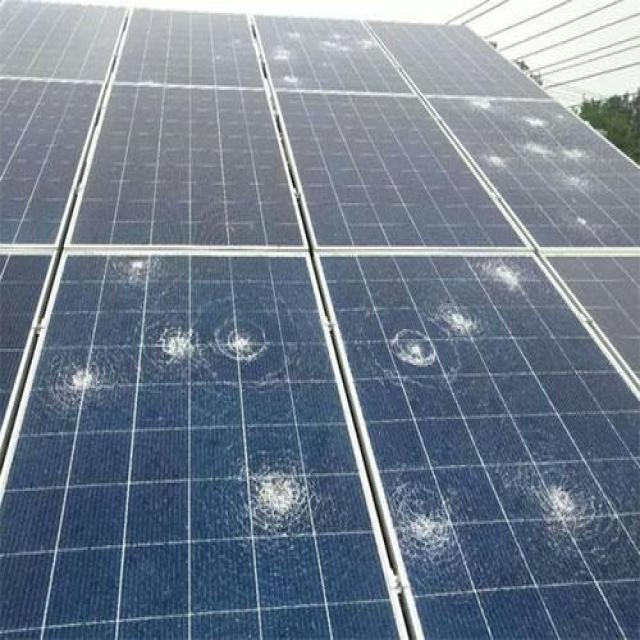Physical-damage: (148, 314, 296, 402), (224, 448, 334, 554), (389, 460, 463, 600), (384, 296, 494, 390), (269, 20, 397, 94), (526, 455, 606, 571), (522, 103, 604, 199), (58, 349, 113, 421), (476, 246, 531, 304), (113, 243, 175, 287), (481, 128, 521, 191), (465, 85, 502, 131)
